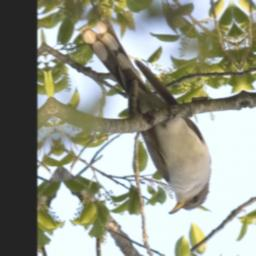Cuckoo: (80, 6, 218, 225)
